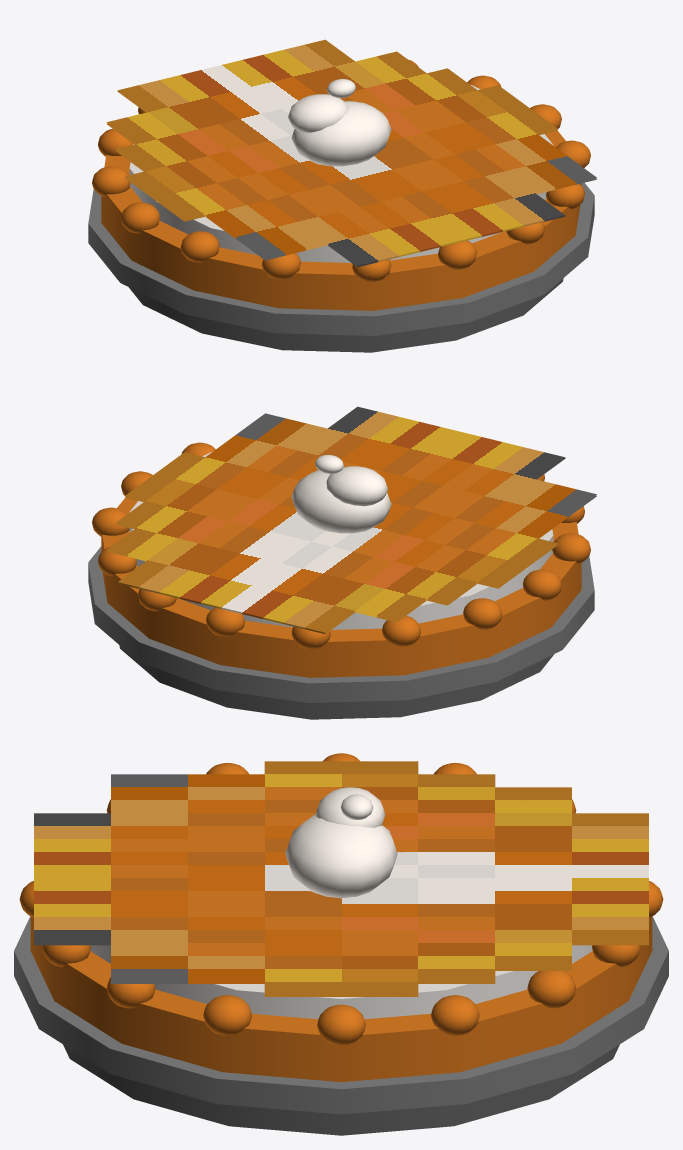
Rendered from CMU3DBakedPiePumpkin.glb.
3 views of the same model, one above another, from view 1: azimuth 30°, elevation 25°; view 2: azimuth 150°, elevation 25°; view 3: azimuth 270°, elevation 25° (orthographic). The views are drawn at different scales.
Parts seen in each view (by area): view 1: original pastry lattice and filling, solid pastry shell, rolled pan lip, metal pie pan, whipped cream lobe 1, baked filling, whipped cream lobe 2, crimped crust edge 10, crimped crust edge 9, crimped crust edge 8, crimped crust edge 13, crimped crust edge 11 (+5 smaller); view 2: original pastry lattice and filling, solid pastry shell, rolled pan lip, metal pie pan, whipped cream lobe 1, baked filling, whipped cream lobe 2, crimped crust edge 8, crimped crust edge 9, crimped crust edge 7, crimped crust edge 10, crimped crust edge 5 (+4 smaller); view 3: original pastry lattice and filling, solid pastry shell, rolled pan lip, metal pie pan, baked filling, whipped cream lobe 1, crimped crust edge 1, crimped crust edge 2, crimped crust edge 16, whipped cream lobe 2, crimped crust edge 3, crimped crust edge 15 (+3 smaller).
Boxes of the visible parts, x1=… form: original pastry lattice and filling: x1=106, y1=39, x2=596, y2=267; solid pastry shell: x1=101, y1=130, x2=581, y2=310; rolled pan lip: x1=88, y1=182, x2=594, y2=335; metal pie pan: x1=128, y1=278, x2=563, y2=352; whipped cream lobe 1: x1=291, y1=101, x2=391, y2=166; baked filling: x1=129, y1=85, x2=553, y2=262; whipped cream lobe 2: x1=288, y1=94, x2=348, y2=132; crimped crust edge 10: x1=180, y1=231, x2=219, y2=262; crimped crust edge 9: x1=121, y1=202, x2=160, y2=233; crimped crust edge 8: x1=92, y1=166, x2=130, y2=196; crimped crust edge 13: x1=438, y1=240, x2=476, y2=269; crimped crust edge 11: x1=262, y1=253, x2=300, y2=279; original pastry lattice and filling: x1=106, y1=406, x2=596, y2=634; solid pastry shell: x1=101, y1=497, x2=581, y2=677; rolled pan lip: x1=88, y1=546, x2=594, y2=702; metal pie pan: x1=119, y1=645, x2=554, y2=719; whipped cream lobe 1: x1=291, y1=470, x2=391, y2=533; baked filling: x1=129, y1=452, x2=553, y2=629; whipped cream lobe 2: x1=326, y1=466, x2=387, y2=506; crimped crust edge 8: x1=463, y1=598, x2=502, y2=629; crimped crust edge 9: x1=522, y1=569, x2=561, y2=600; crimped crust edge 7: x1=382, y1=615, x2=420, y2=646; crimped crust edge 10: x1=552, y1=533, x2=590, y2=563; crimped crust edge 5: x1=206, y1=607, x2=244, y2=636; original pastry lattice and filling: x1=34, y1=761, x2=648, y2=996; solid pastry shell: x1=30, y1=917, x2=652, y2=1082; rolled pan lip: x1=14, y1=916, x2=668, y2=1114; metal pie pan: x1=63, y1=1044, x2=619, y2=1135; baked filling: x1=90, y1=774, x2=592, y2=1019; whipped cream lobe 1: x1=285, y1=815, x2=397, y2=898; crimped crust edge 1: x1=317, y1=1004, x2=365, y2=1045; crimped crust edge 2: x1=431, y1=995, x2=479, y2=1035; crimped crust edge 16: x1=203, y1=995, x2=251, y2=1035; whipped cream lobe 2: x1=315, y1=787, x2=385, y2=827; crimped crust edge 3: x1=527, y1=971, x2=576, y2=1008; crimped crust edge 15: x1=106, y1=977, x2=155, y2=1008.
Size of the model in its own units: 0.588 by 0.216 by 0.588.
Materials: 6 (1 with a texture image).
